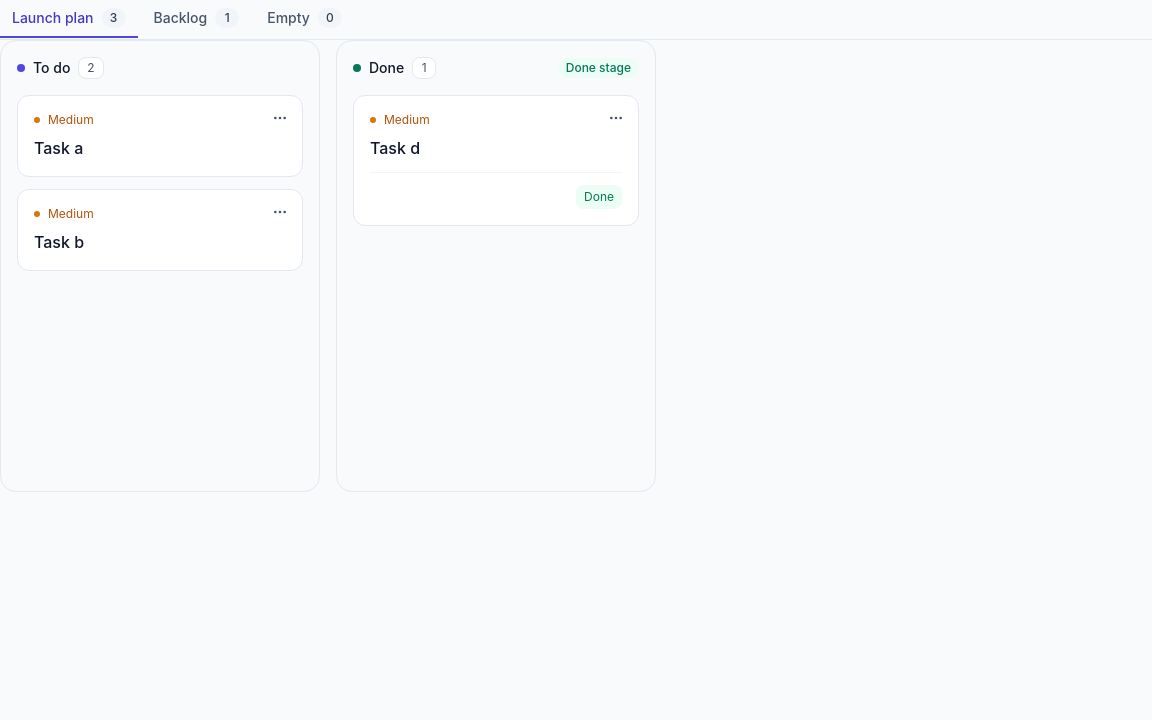
Test: KanbanBoard across pipelines › offers the stages of the other pipelines in the Move menu, under their own names, and keeps the same-pipeline names
The width and height of the screenshot is (1152, 720).
Click the button named "Move options for Task a" at {"x": 280, "y": 118}, box [266,104,294,132]
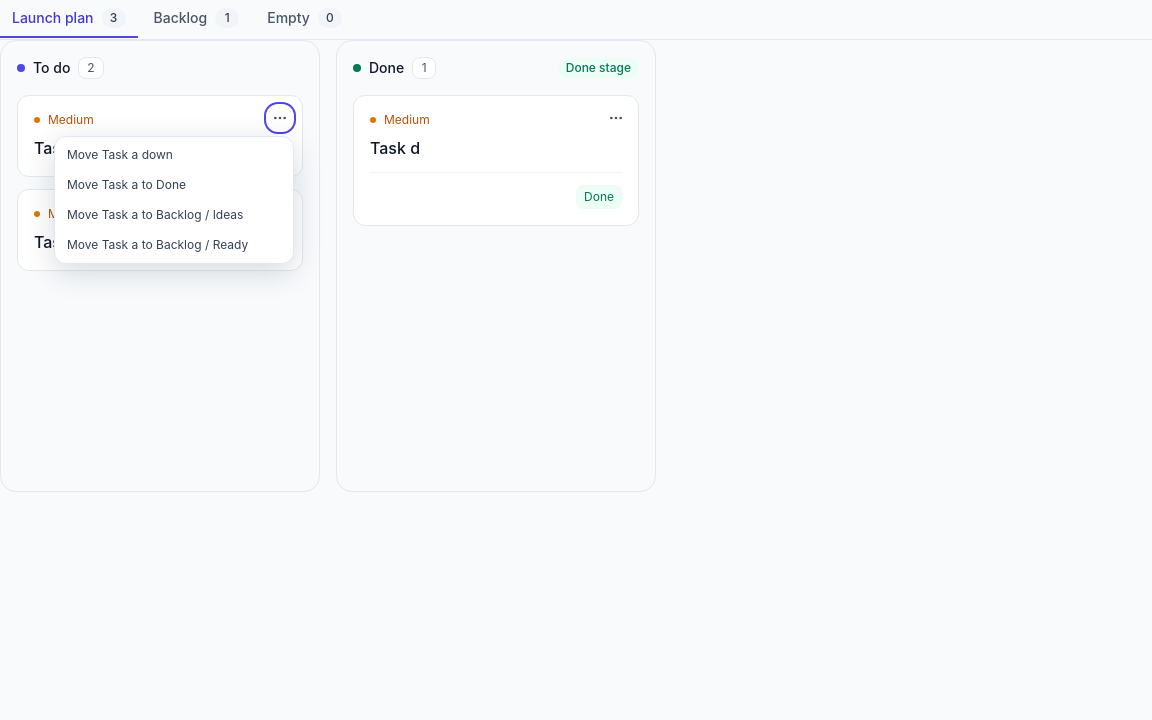
Expected: the button "Move Task a to Done" is shown, [59,171,289,199]
Expected: the buttons read "Move Task a to Backlog / Ideas", "Move Task a to Backlog / Ready", in this order, [59,201,289,229]; [59,231,289,259]
